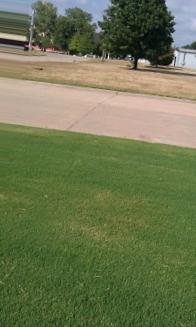patch: (73, 218, 101, 239)
